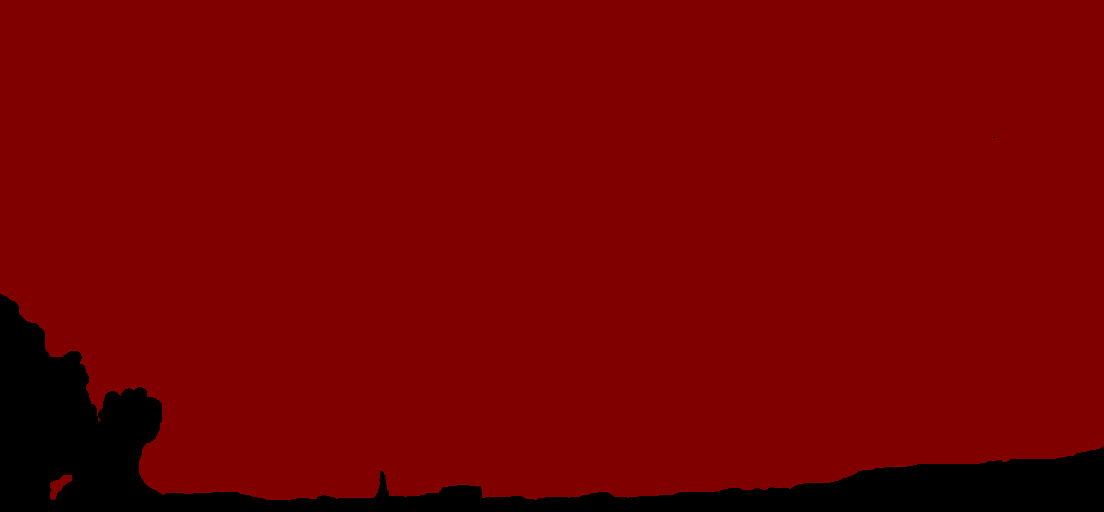Sky: (1, 1, 1103, 499)
